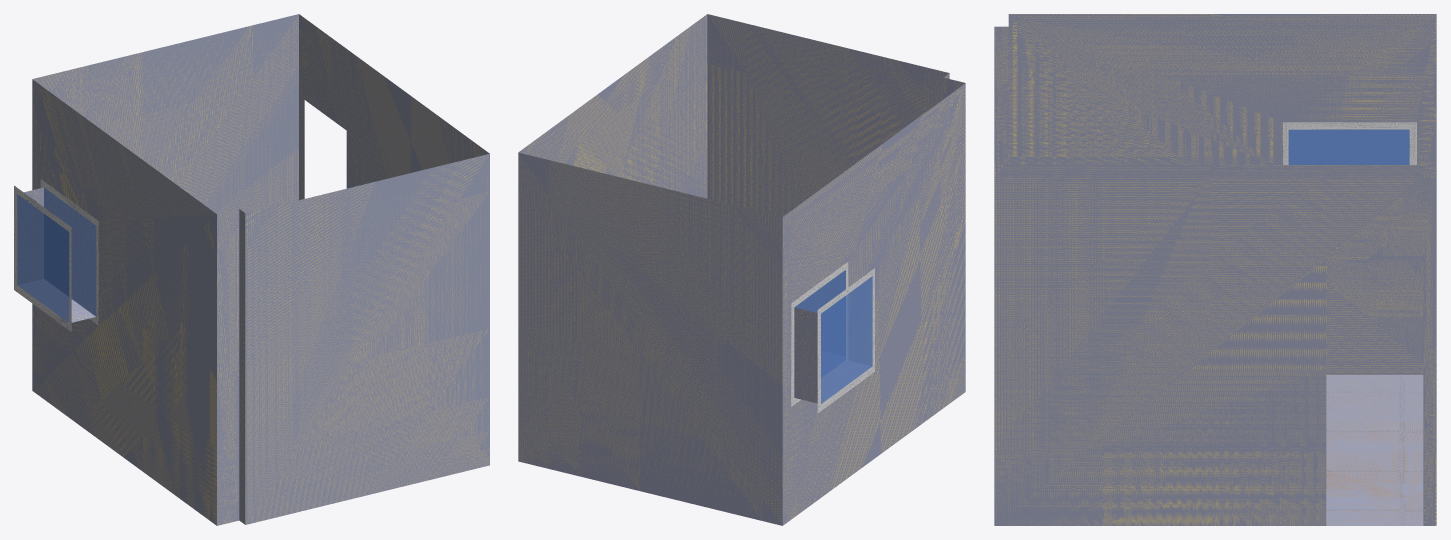
The model's file is DES037.obj.
3 views of the same model, side by side, from view 1: azimuth 30°, elevation 25°; view 2: azimuth 150°, elevation 25°; view 3: azimuth 270°, elevation 25° (orthographic). The views are drawn at different scales.
Visible parts, largest first — view 1: Mesh5 DES037 Model, Mesh1 Group1 DES037 Model; view 2: Mesh5 DES037 Model, Mesh1 Group1 DES037 Model; view 3: Mesh5 DES037 Model, Mesh1 Group1 DES037 Model.
Part boxes in pixels (x1,y1,x2,y2): Mesh5 DES037 Model: (32, 14, 489, 525); Mesh1 Group1 DES037 Model: (14, 179, 98, 331); Mesh5 DES037 Model: (518, 14, 965, 525); Mesh1 Group1 DES037 Model: (791, 262, 874, 413); Mesh5 DES037 Model: (994, 14, 1436, 525); Mesh1 Group1 DES037 Model: (1283, 122, 1416, 164).
Bounding box in the file's own units: 2.96 × 3 × 3.33.
Materials: 6 (2 with a texture image).
